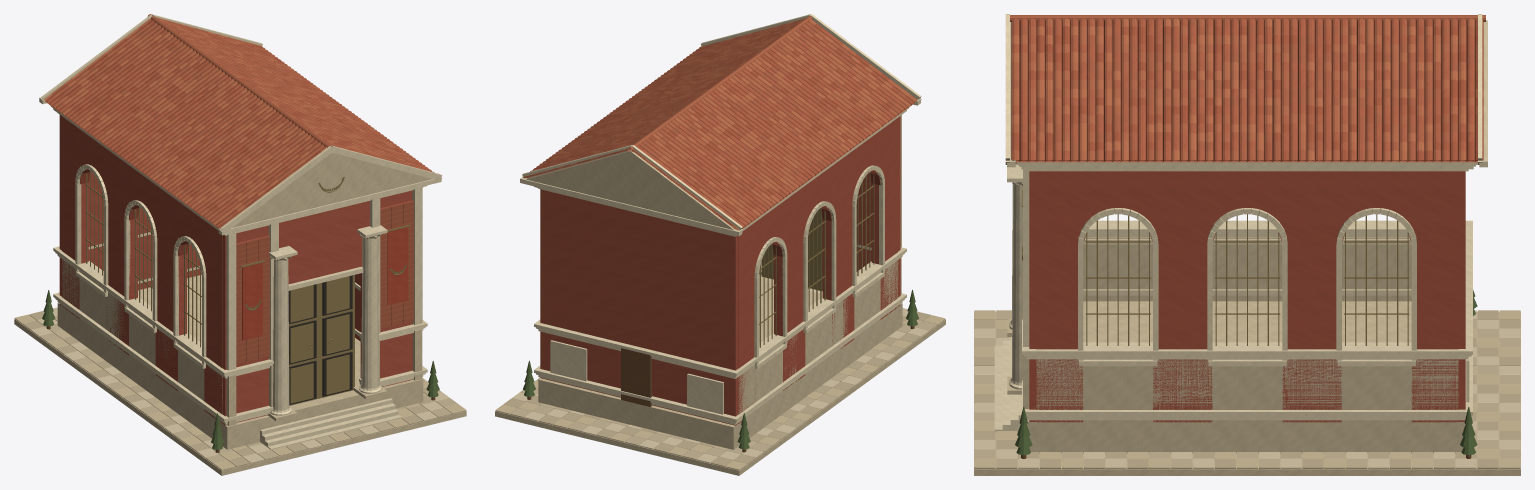
The model's file is curia.glb.
The picture shows the model from 3 angles, left to right: view 1: azimuth 30°, elevation 25°; view 2: azimuth 150°, elevation 25°; view 3: azimuth 270°, elevation 25°; orthographic projection. The views are drawn at different scales.
Visible parts, largest first — view 1: Pompeian_red, Limestone_trim, Travertine, Tile_0, Pompeian_red.001, Limestone_trim.001, Tile_2, Travertine.001, Bronze, Tile_1, Bronze.001, Tile_3 (+16 smaller); view 2: Pompeian_red, Travertine, Tile_0, Pompeian_red.001, Limestone_trim, Limestone_trim.001, Tile_1, Tile_3, Travertine.001, Tile_2, Tile_4, Tile_5 (+13 smaller); view 3: Pompeian_red, Travertine, Travertine.001, Limestone_trim, Tile_0, Limestone_trim.001, Pompeian_red.001, Tile_2, Tile_4, Tile_1, Tile_5, Tile_3 (+11 smaller).
Boxes of the visible parts, box(x1,y1,x2,y2) form: Pompeian_red: box(60, 115, 413, 424); Limestone_trim: box(39, 14, 442, 449); Travertine: box(14, 152, 465, 474); Tile_0: box(45, 19, 431, 217); Pompeian_red.001: box(59, 115, 413, 425); Limestone_trim.001: box(39, 97, 441, 449); Tile_2: box(45, 18, 415, 363); Travertine.001: box(14, 266, 466, 475); Bronze: box(86, 172, 410, 404); Tile_1: box(52, 14, 414, 228); Bronze.001: box(85, 171, 404, 405); Tile_3: box(44, 19, 411, 222); Pompeian_red: box(540, 116, 900, 424); Travertine: box(496, 150, 945, 474); Tile_0: box(530, 20, 900, 228); Pompeian_red.001: box(540, 116, 900, 425); Limestone_trim: box(520, 14, 921, 424); Limestone_trim.001: box(520, 46, 920, 424); Tile_1: box(539, 16, 917, 223); Tile_3: box(552, 19, 910, 230); Travertine.001: box(495, 271, 945, 475); Tile_2: box(527, 18, 915, 229); Tile_4: box(523, 23, 914, 225); Tile_5: box(530, 24, 911, 217); Pompeian_red: box(1030, 171, 1464, 421); Travertine: box(975, 22, 1519, 474); Travertine.001: box(974, 237, 1520, 475); Limestone_trim: box(995, 14, 1487, 432); Tile_0: box(1011, 18, 1483, 161); Limestone_trim.001: box(994, 20, 1487, 431); Pompeian_red.001: box(1029, 171, 1465, 422); Tile_2: box(1011, 18, 1483, 162); Tile_4: box(1011, 18, 1483, 161); Tile_1: box(1010, 15, 1485, 161); Tile_5: box(1011, 18, 1483, 161); Tile_3: box(1011, 18, 1483, 161).
Bounding box in the file's own units: 15 × 16.99 × 22.
Materials: 19 (7 with a texture image).
